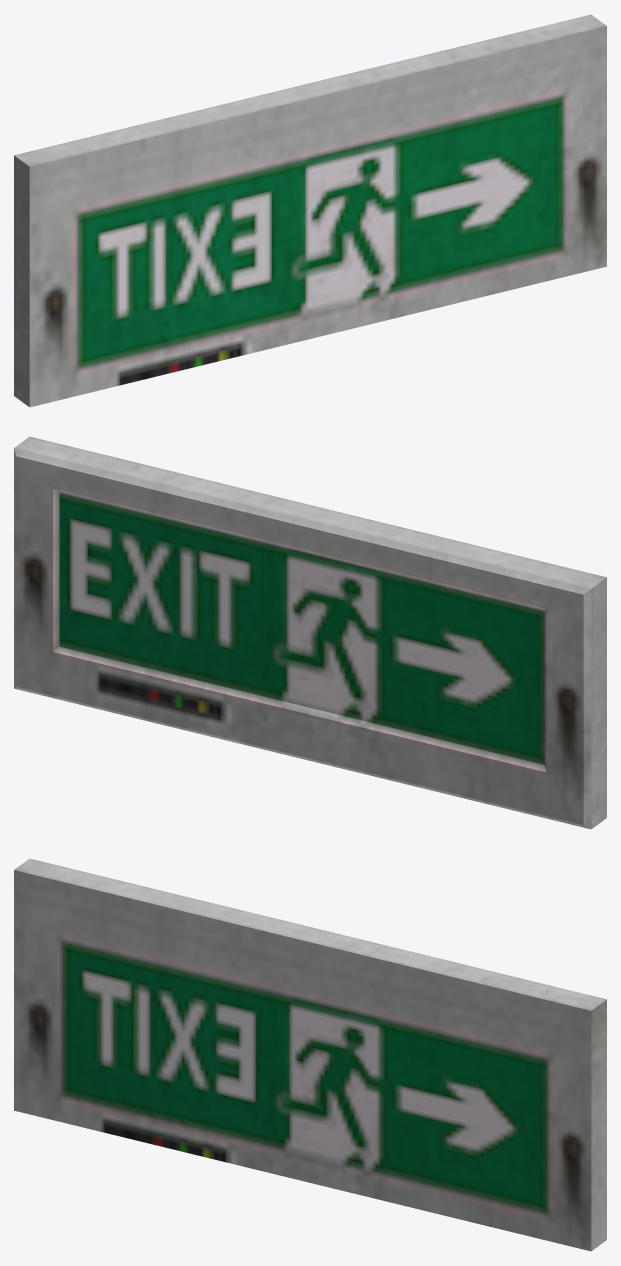
File: Exit_R.FBX
3 views of the same model, one above another, from view 1: azimuth 30°, elevation 25°; view 2: azimuth 150°, elevation 25°; view 3: azimuth 330°, elevation 25° (orthographic).
Parts seen in each view (by area): view 1: Exit_R; view 2: Exit_R; view 3: Exit_R.
Part boxes in pixels (box(x1,y1,x2,y2)): Exit_R: box(14, 14, 606, 407); Exit_R: box(14, 436, 606, 829); Exit_R: box(14, 858, 606, 1251).
Bounding box in the file's own units: 36 × 2 × 14.34.
Materials: 1 (1 with a texture image).
